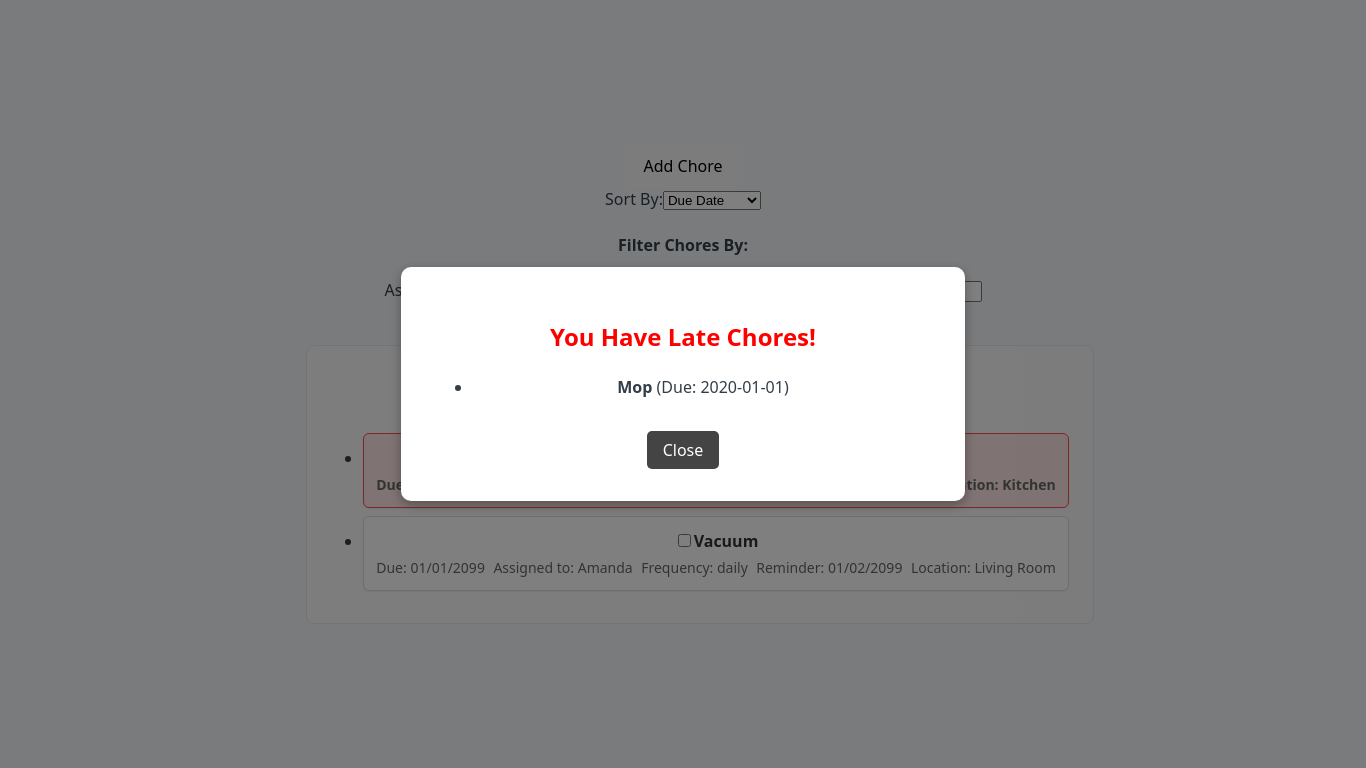
Displays late chore modal
The image size is (1366, 768).
Expected: the text "Mop" is shown, [617,376,652,398]
Step 1. Click the button with test id "modal-close-button" → (683, 450), box [647,431,719,469]
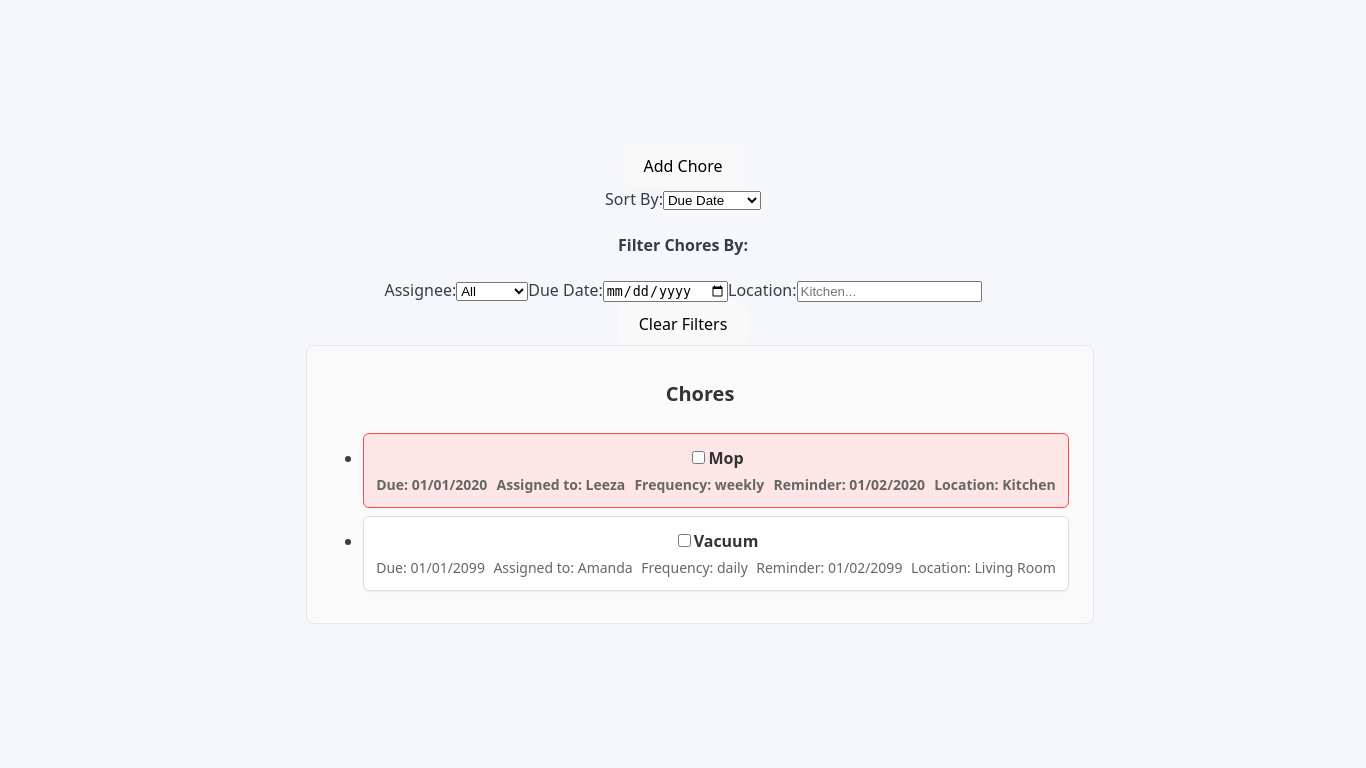
Result: the dialog is gone
